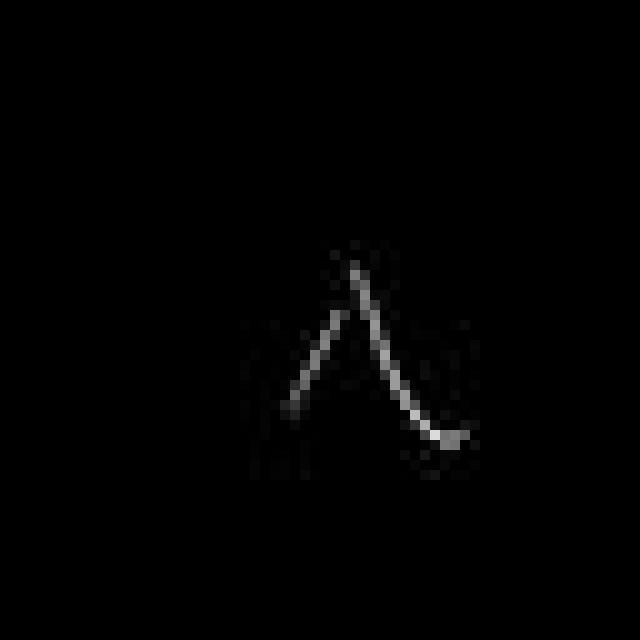8 -eight-: (263, 253, 470, 472)
